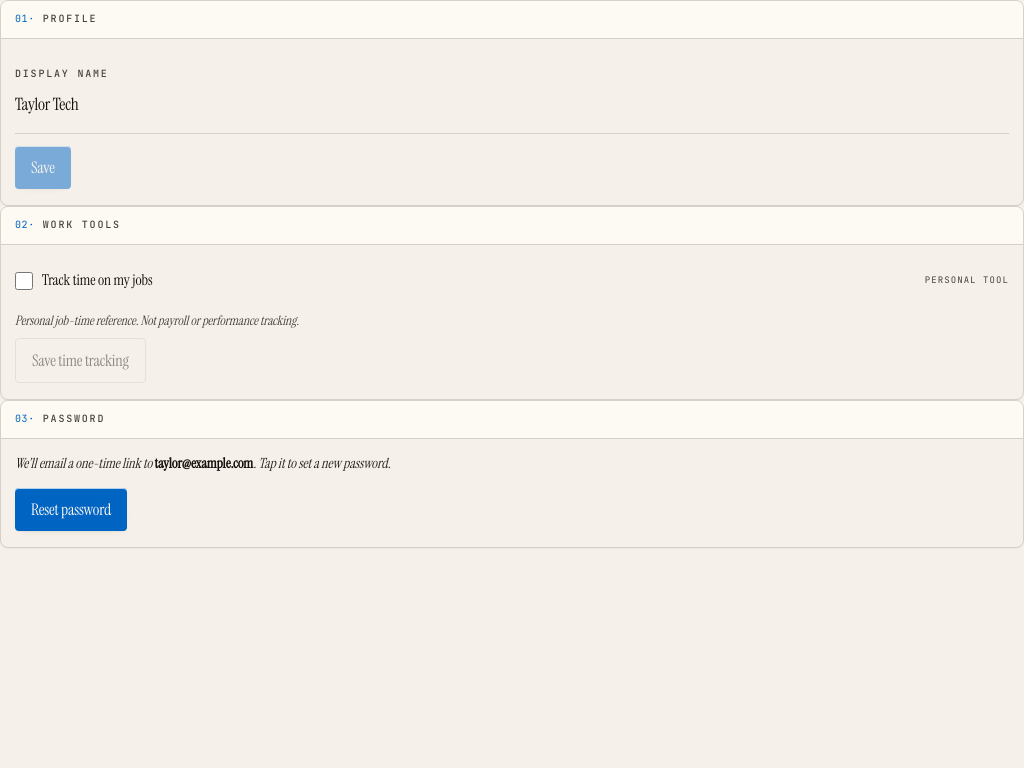
Scenario: AccountSection personal job timer preference › reloads exact server truth after an uncertain save instead of reporting a false success
Click the checkbox labelled "Track time on my jobs" at coordinates (24, 281), box [15, 272, 33, 290]
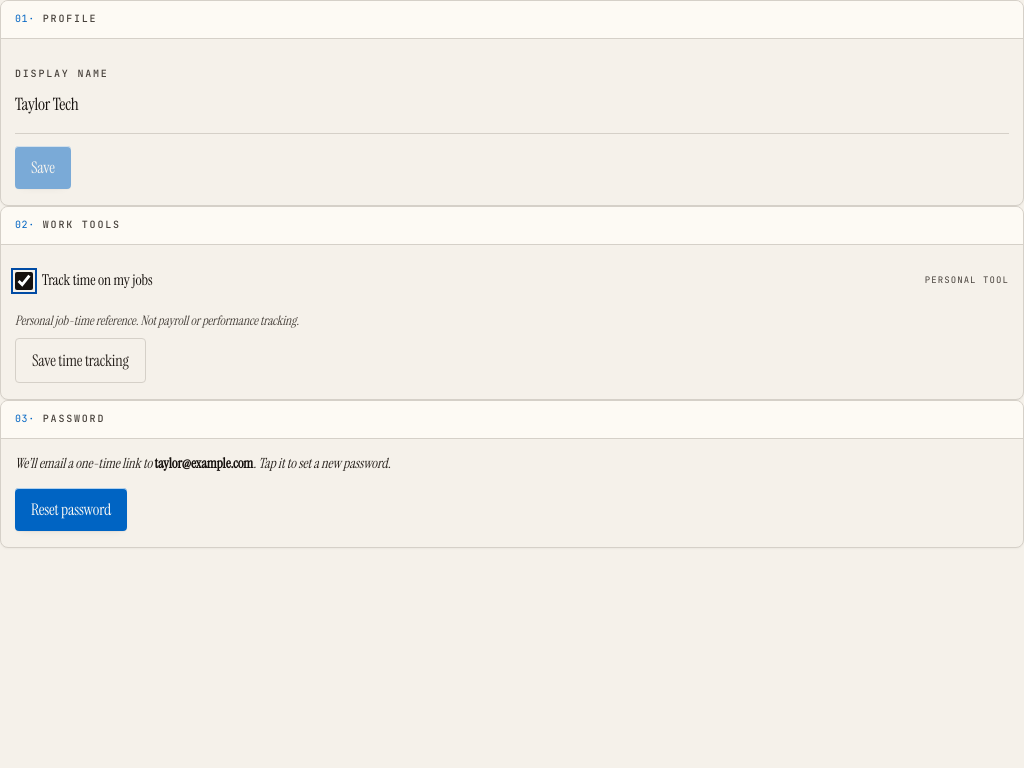
Click the button "Save time tracking" at coordinates (80, 361), box [15, 338, 146, 383]
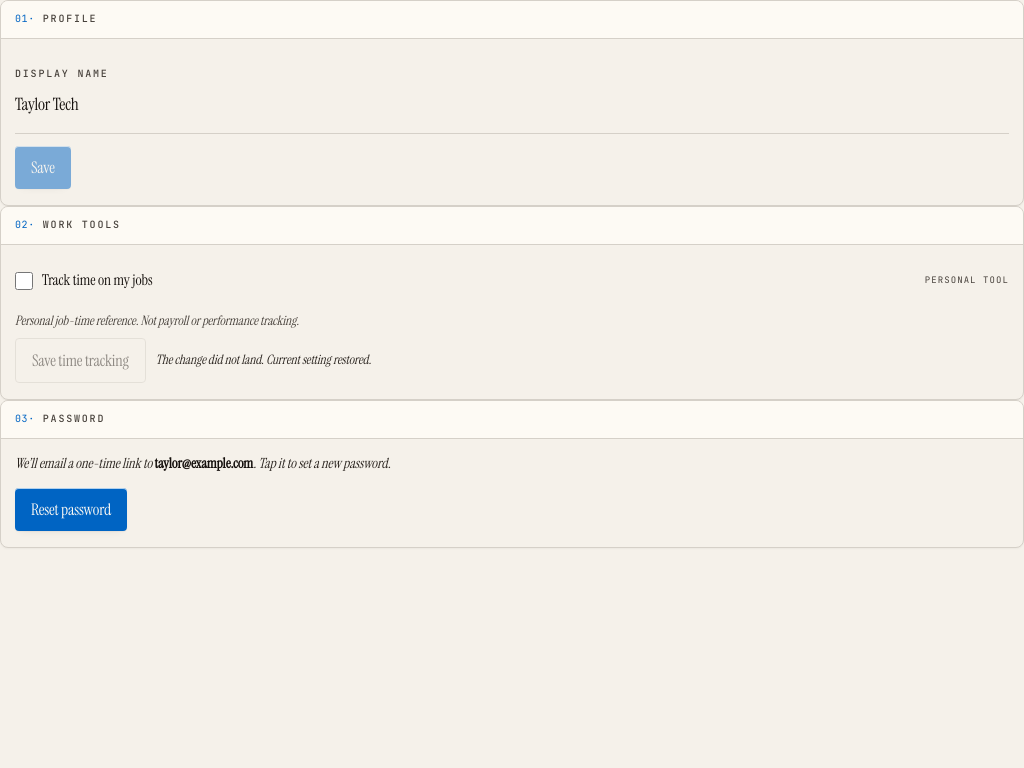
Expected: the checkbox labelled "Track time on my jobs" is not checked, [15, 272, 33, 290]
Expected: the text "The change did not land. Current setting restored." is shown, [156, 351, 371, 370]
